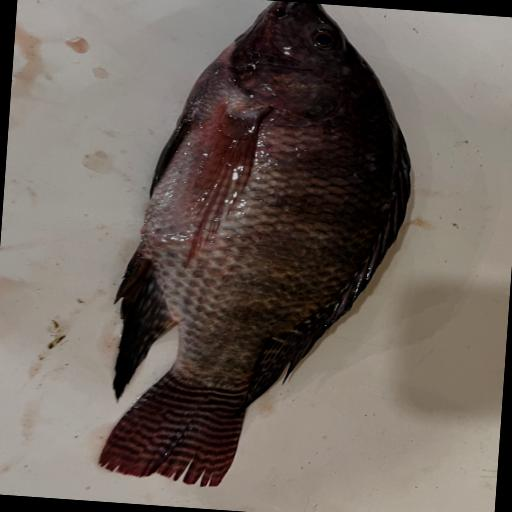Tilapia: (96, 0, 423, 499)
